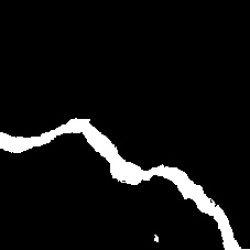crack: (2, 119, 239, 247), (153, 235, 160, 244)
